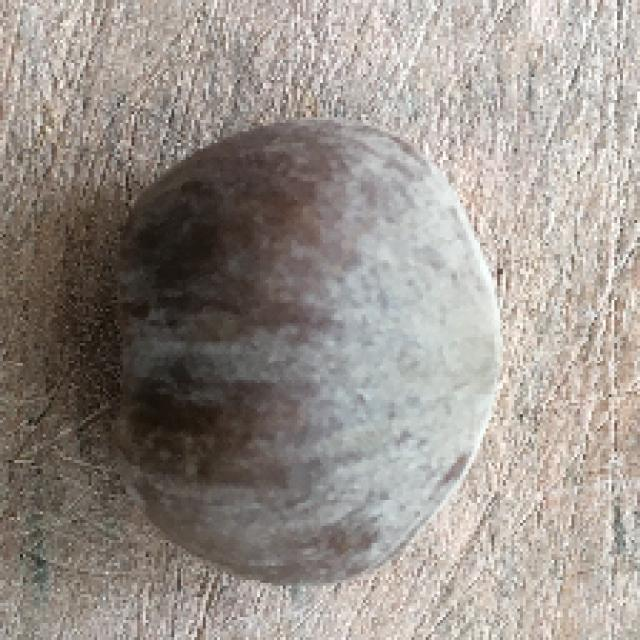damagedHazelnut: (92, 124, 502, 580)
